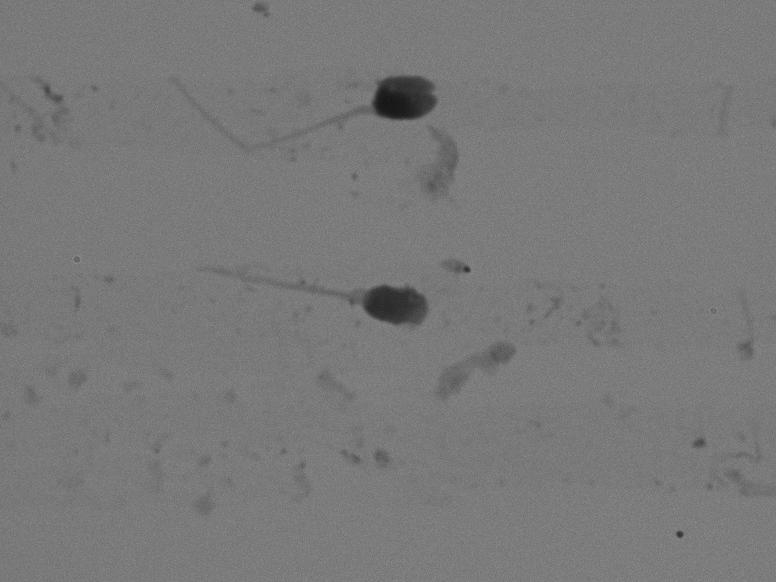Abnormal: (138, 215, 452, 361), (145, 41, 466, 174)
